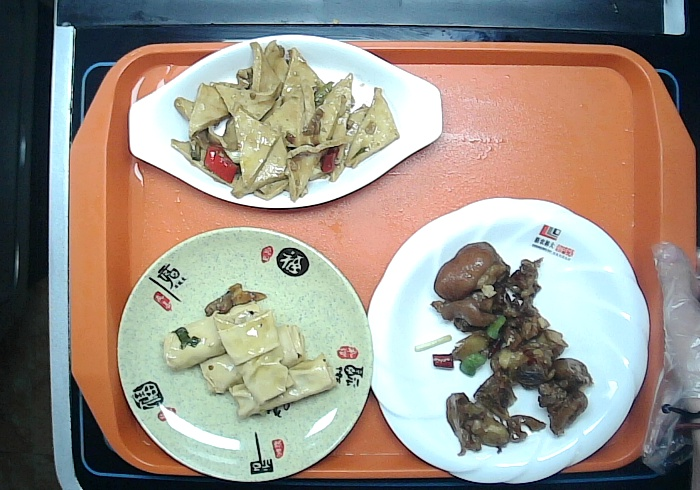NLDX-Bai_Zhe_Yuan_Pan: (362, 185, 653, 490)
NLDX-Fu_Zi_Yuan_Pan: (116, 221, 375, 477)
NLDX-Yu_Pan: (121, 38, 445, 218)
